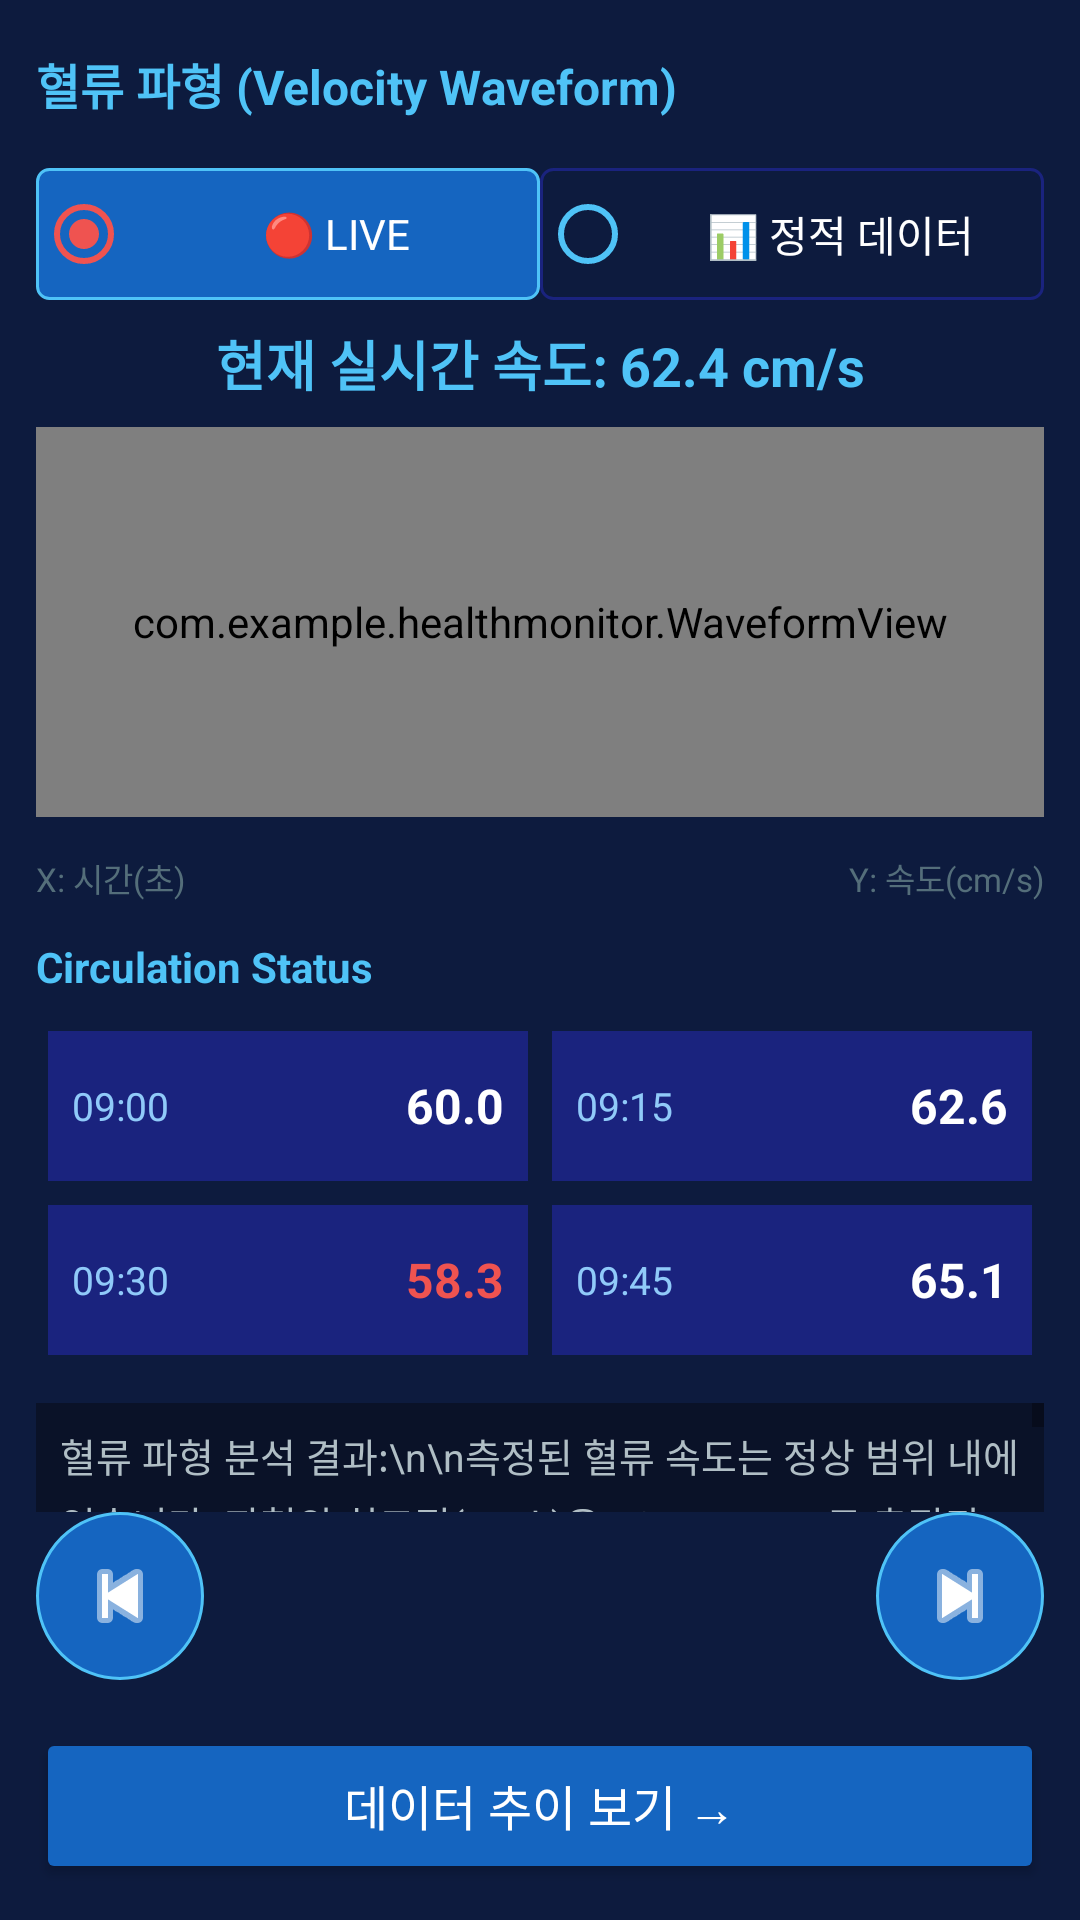

Icons on this 1080*1920 Android screen, each with the point to tap as (x,y):
다음: (960,1596)
이전: (120,1596)
